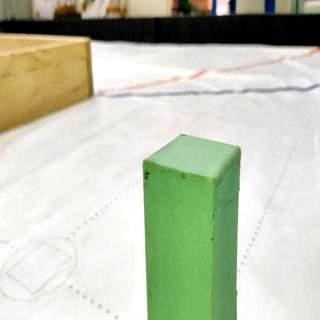greenbox: (142, 130, 244, 320)
